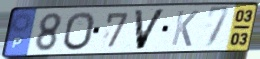7: (200, 5, 232, 51), (105, 11, 129, 50)
8: (33, 11, 63, 53)
K: (169, 9, 200, 49)
O: (62, 10, 97, 52)
V: (132, 8, 168, 52)
